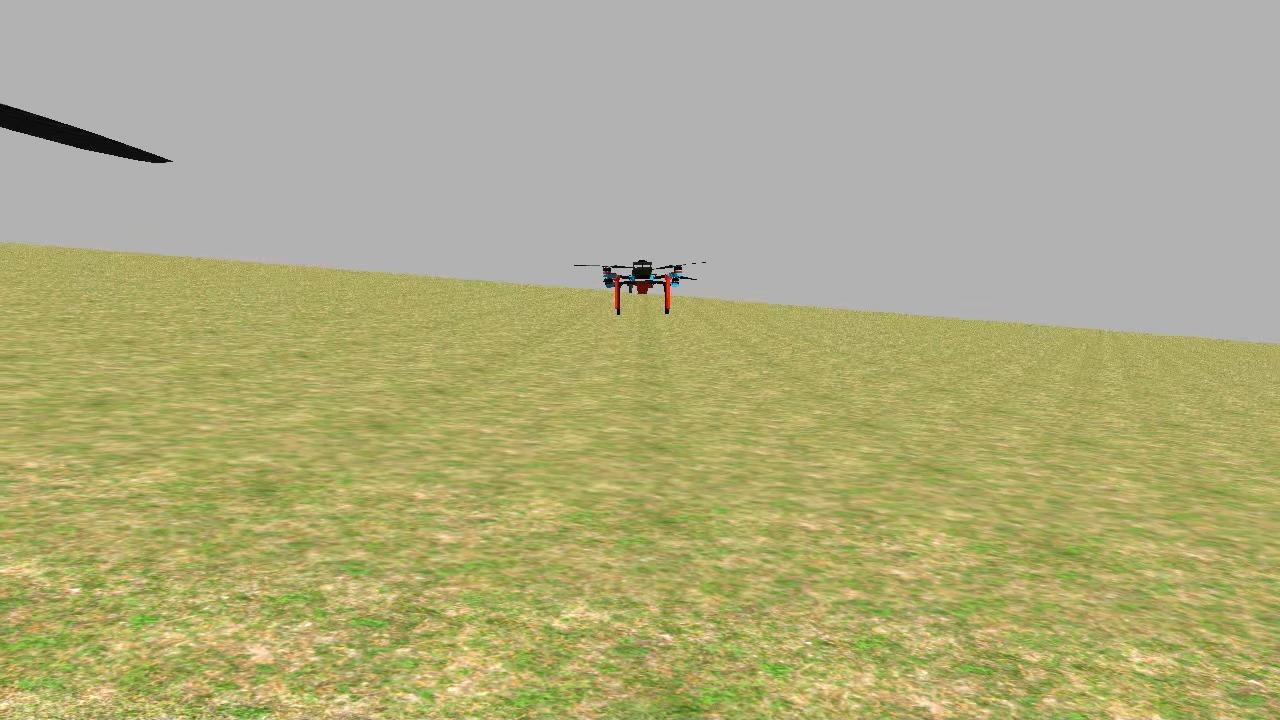UAV: (588, 251, 699, 326)
